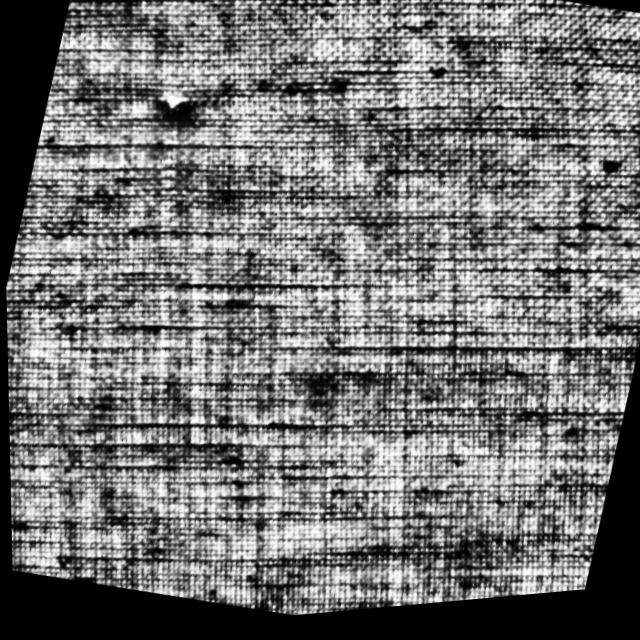Hole: (148, 86, 201, 130)
